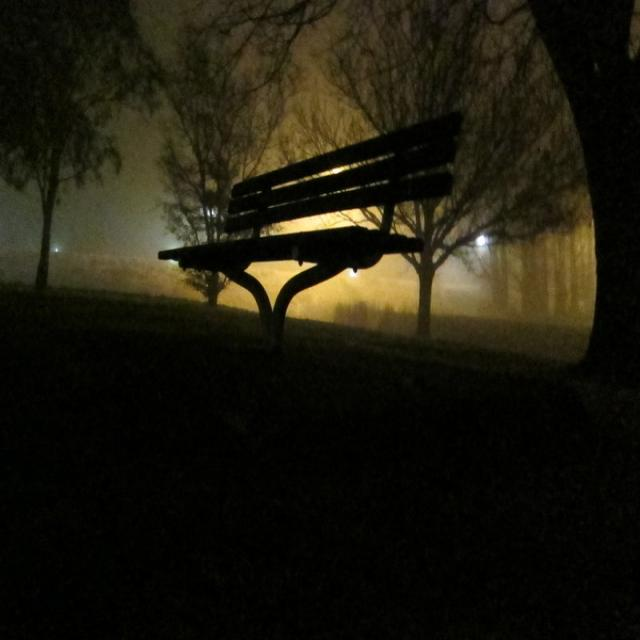chair: (143, 90, 496, 371)
